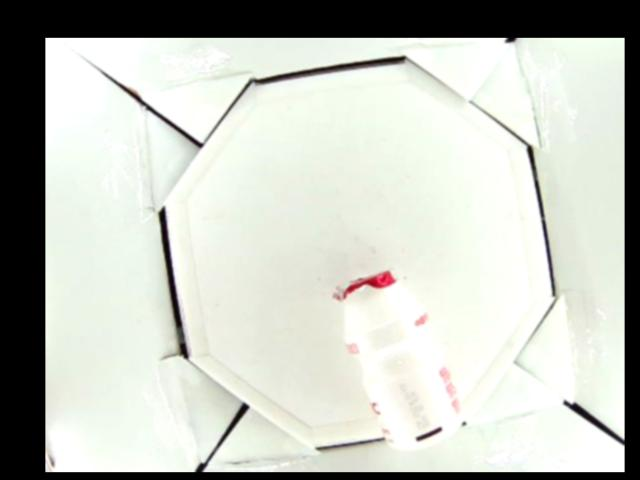Bottle: (334, 271, 468, 449)
